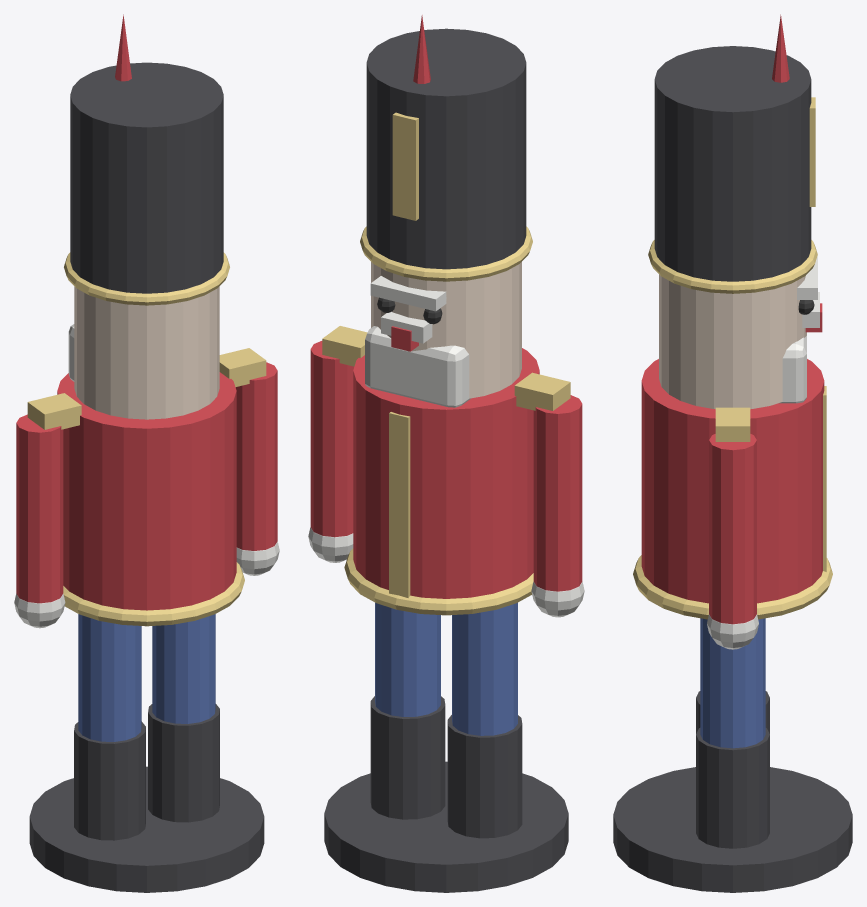
The model's file is nutcracker.glb.
3 views of the same model, side by side, from view 1: azimuth 30°, elevation 25°; view 2: azimuth 150°, elevation 25°; view 3: azimuth 270°, elevation 25° (orthographic). The views are drawn at different scales.
Visible parts, largest first — view 1: nutcracker; view 2: nutcracker; view 3: nutcracker.
Part boxes in pixels (x1,y1,x2,y2): nutcracker: (14,14,279,892); nutcracker: (308,15,584,892); nutcracker: (613,14,852,892).
Bounding box in the file's own units: 1.4 × 4.2 × 1.1.
